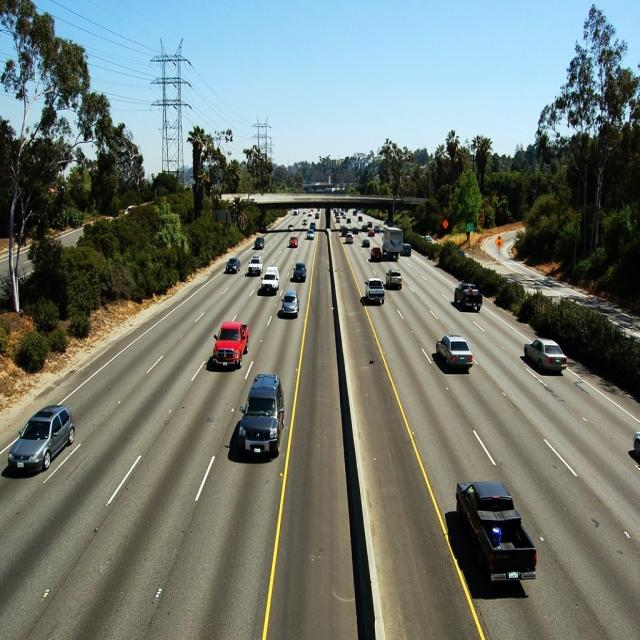Carro Branco: (361, 276, 392, 310), (259, 268, 284, 294), (247, 256, 262, 280)
Carro Cinza: (5, 399, 78, 488)
Carro Prata: (516, 334, 575, 380), (428, 330, 481, 378), (280, 290, 305, 328), (382, 268, 408, 294)
Carro Preto: (447, 476, 552, 592), (237, 374, 286, 464), (449, 281, 487, 317), (290, 258, 311, 284), (223, 252, 241, 276)
Carro Vermelho: (212, 318, 252, 371)
